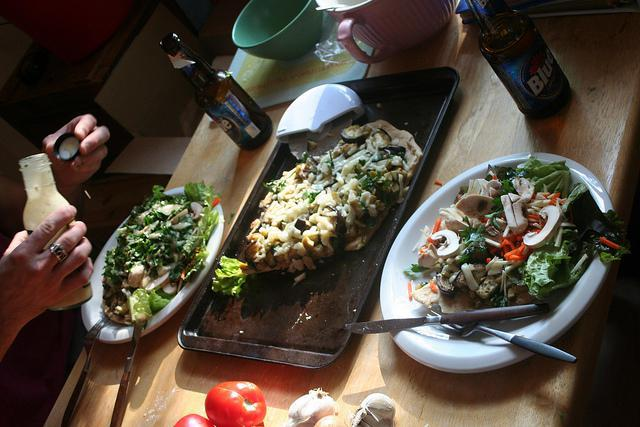hand: (1, 203, 95, 371), (39, 113, 114, 190)
